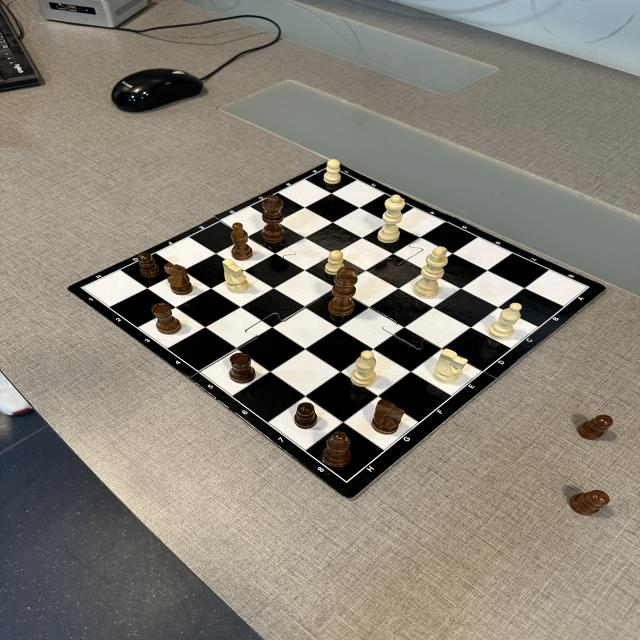Black-Bishop: (322, 432, 351, 468), (232, 222, 252, 260)
Black-King: (328, 267, 357, 317)
Black-Knight: (371, 399, 405, 435), (165, 263, 192, 295)
Black-Pawn: (571, 490, 609, 515), (578, 414, 613, 440), (294, 402, 318, 429), (138, 253, 159, 278)
Black-Queen: (262, 196, 284, 244)
Black-Rook: (152, 303, 181, 335), (230, 352, 256, 382)
White-Bishop: (489, 302, 522, 340), (350, 351, 377, 387)
White-King: (413, 246, 448, 298)
White-Knight: (434, 348, 468, 384), (223, 259, 249, 293)
White-Pawn: (325, 250, 345, 276), (323, 159, 341, 184)
White-Queen: (378, 195, 405, 243)
